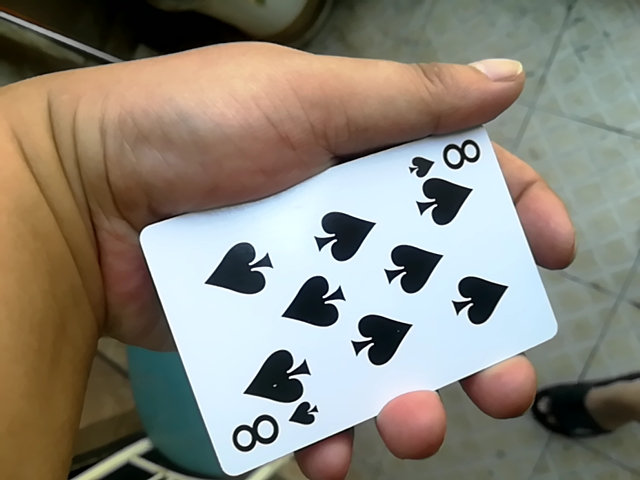ht 8: (123, 130, 549, 476)
